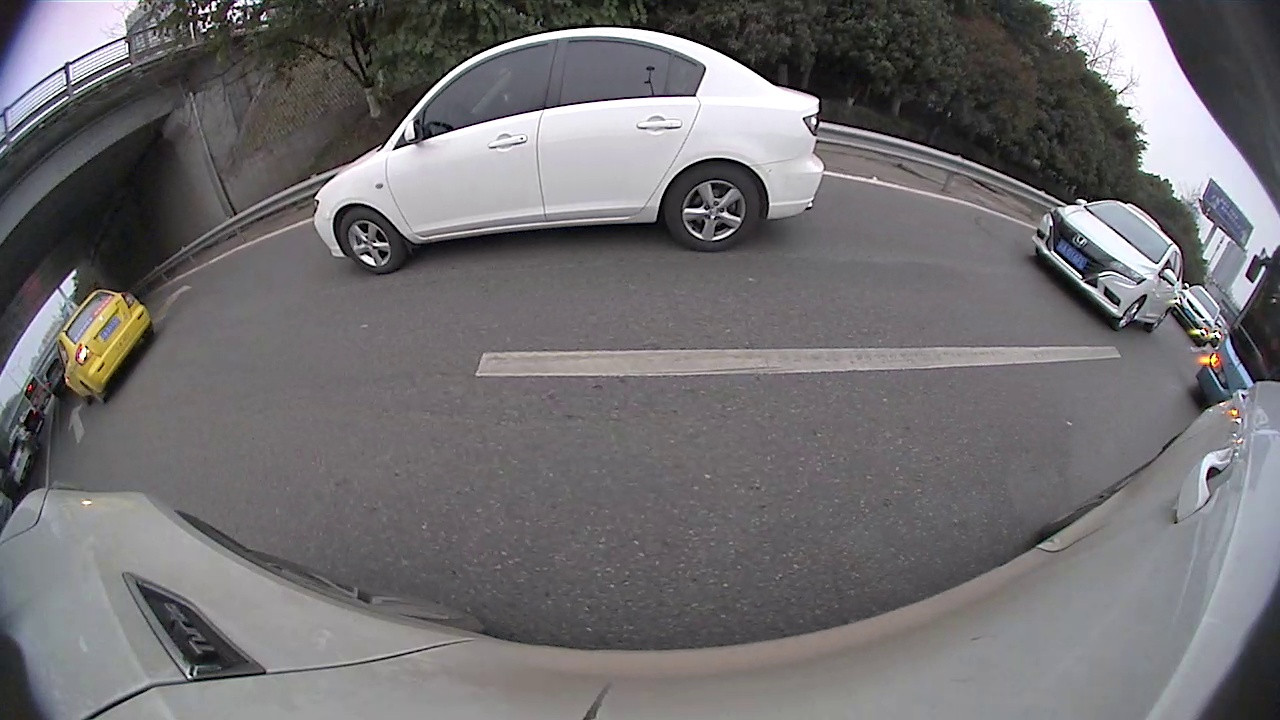bus: (1194, 246, 1278, 413)
car: (309, 22, 827, 275), (1026, 197, 1189, 334), (51, 286, 155, 404), (1173, 280, 1223, 348)
front: (335, 204, 410, 273), (1115, 297, 1145, 334)
rear: (662, 163, 759, 255)
